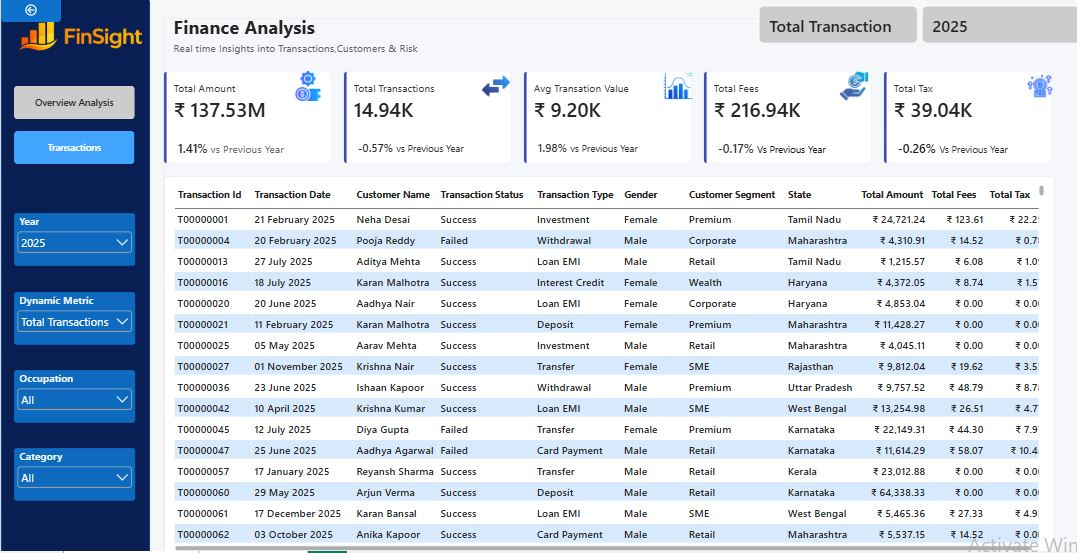

Layout of this report page (visuals, bound fields, positions):
{"tool":"powerbi","page":{"name":"Transactions","canvas":[1800,950],"ordinal":1},"visuals":[{"type":"shape","box":[0,0,248.6,938.6],"z":0},{"type":"shape","box":[270,32.9,1530,916.3],"z":1000},{"type":"image","box":[22.4,14.3,226.5,89.8],"z":2000},{"type":"cardVisual","fields":{"Data":["finance_transactions.dashboaasr table"]},"box":[272,0,478,122],"z":3000},{"type":"cardVisual","fields":{"Data":["finance_transactions.Total Amount","finance_transactions.Total Transactions","finance_transactions.Avg Transation Value","finance_transactions.Total Fees","finance_transactions.Total Tax"]},"box":[270,122,1486,155],"z":4000},{"type":"image","box":[486.7,121.7,50,50],"z":5000},{"type":"image","box":[800,121.7,50,50],"z":6000},{"type":"image","box":[1396.7,121.7,50,50],"z":7000},{"type":"image","box":[1103.3,121.7,50,50],"z":8000},{"type":"image","box":[1706.7,121.7,50,50],"z":9000},{"type":"shape","box":[272,296,1484,642],"z":10000},{"type":"cardVisual","fields":{"Data":["finance_transactions.Selected Dynamnic measure","finance_transactions.Selected Year"]},"box":[1264,14,536,62],"z":11000},{"type":"tableEx","fields":{"Values":["finance_transactions.transaction_id","finance_transactions.transaction_date","customers.customer_name","finance_transactions.transaction_status","finance_transactions.transaction_type","customers.gender","customers.customer_segment","customers.state","finance_transactions.Total Amount","finance_transactions.Total Fees","finance_transactions.Total Tax"]},"box":[272,296,1484,642],"z":12000},{"type":"actionButton","box":[0,0,100,40],"z":13000},{"type":"slicer","fields":{"Values":["Dynamic Metric.Dynamic Metric"]},"box":[22,490,202,88],"z":14000},{"type":"slicer","fields":{"Values":["Calendar Table.Year"]},"box":[22,358,202,88],"z":15000},{"type":"slicer","fields":{"Values":["customers.occupation"]},"box":[22,620,202,88],"z":16000},{"type":"slicer","fields":{"Values":["finance_transactions.merchant_category"]},"box":[22,750,202,88],"z":17000},{"type":"pageNavigator","box":[21.7,146.7,201.7,130],"z":18000}]}

Visuals, with their boxes on the page's 1800x950 design canvas (x1, y1, x2, y2). These are canvas units, not pixel positions in the 1077x553 screenshot, which may show the page scaled, cropped or inside an application window:
shape: l=0, t=0, r=249, b=939
shape: l=270, t=33, r=1800, b=949
image: l=22, t=14, r=249, b=104
cardVisual - finance_transactions.dashboaasr table: l=272, t=0, r=750, b=122
cardVisual - finance_transactions.Total Amount x finance_transactions.Total Transactions: l=270, t=122, r=1756, b=277
image: l=487, t=122, r=537, b=172
image: l=800, t=122, r=850, b=172
image: l=1397, t=122, r=1447, b=172
image: l=1103, t=122, r=1153, b=172
image: l=1707, t=122, r=1757, b=172
shape: l=272, t=296, r=1756, b=938
cardVisual - finance_transactions.Selected Dynamnic measure x finance_transactions.Selected Year: l=1264, t=14, r=1800, b=76
tableEx - finance_transactions.transaction_id x finance_transactions.transaction_date: l=272, t=296, r=1756, b=938
actionButton: l=0, t=0, r=100, b=40
slicer - Dynamic Metric.Dynamic Metric: l=22, t=490, r=224, b=578
slicer - Calendar Table.Year: l=22, t=358, r=224, b=446
slicer - customers.occupation: l=22, t=620, r=224, b=708
slicer - finance_transactions.merchant_category: l=22, t=750, r=224, b=838
pageNavigator: l=22, t=147, r=223, b=277
